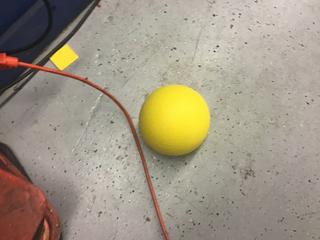power_cell: (132, 82, 213, 159)
